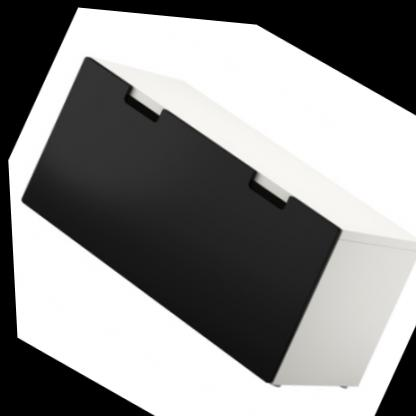Cabinet: (1, 15, 416, 416)
